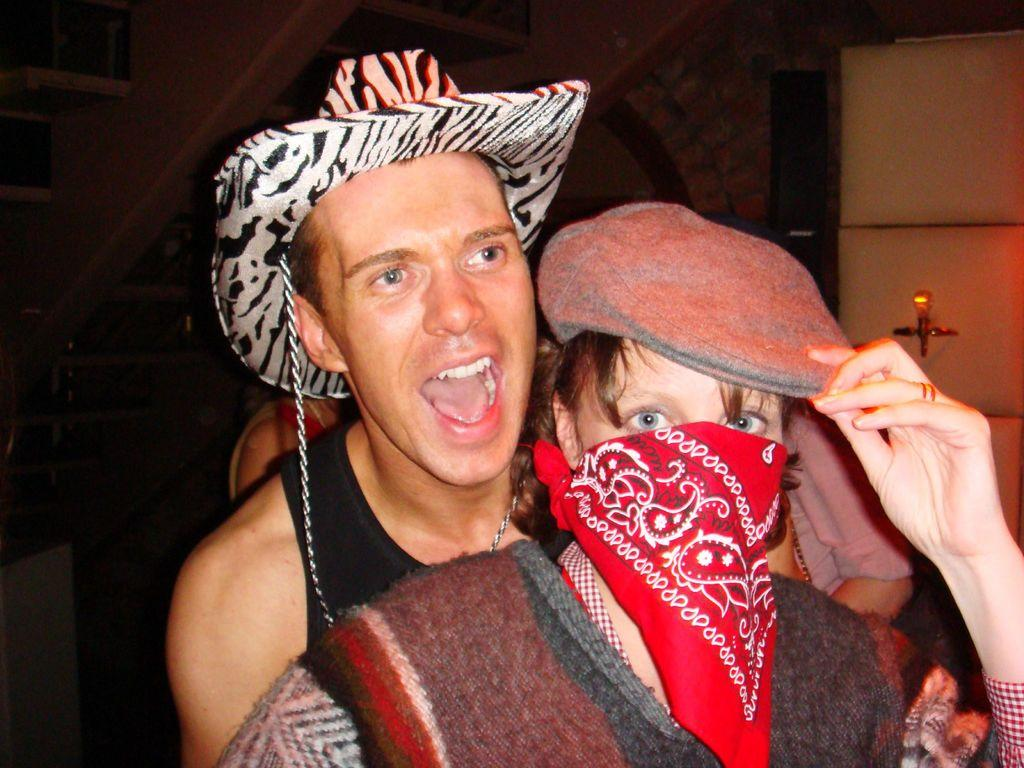Hat: (212, 46, 594, 626), (534, 198, 868, 400)
